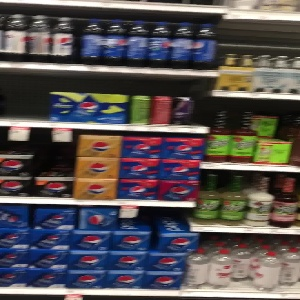void: (1, 68, 48, 123)
